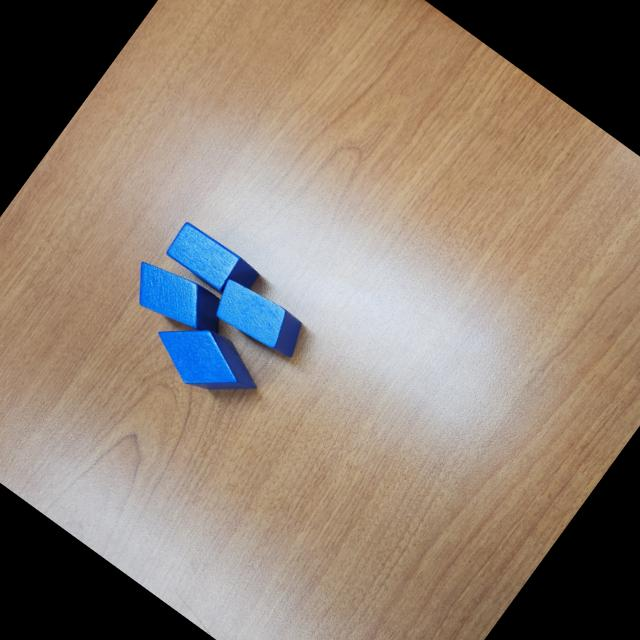blue: (142, 303, 270, 420), (118, 247, 235, 352), (203, 271, 311, 367), (160, 217, 264, 309)
